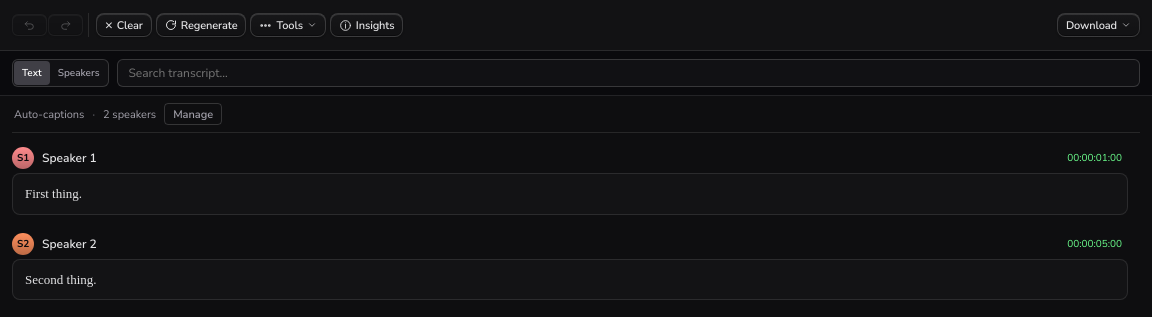
Test: the Tools item says which one it is › reads Re-detect speakers once there are some
Expected: the button "First thing." is shown, [25,186,82,201]
Step 1. Click the button "Tools" → click(288, 25), box [250,13,326,37]
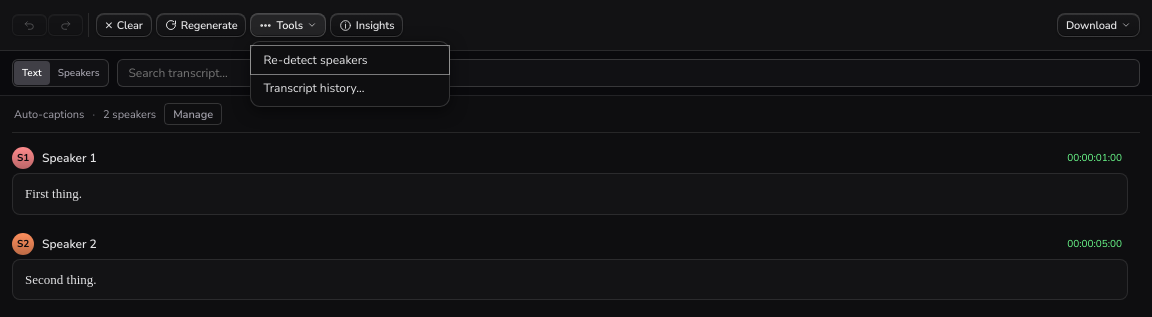
Result: the menu item "Re-detect speakers" is shown at [252,46,450,74]
